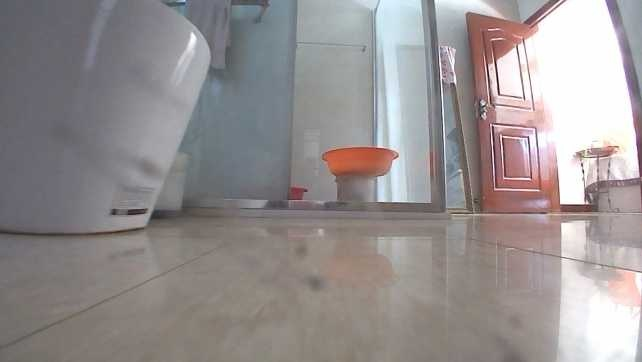door_anno: (462, 10, 559, 216)
toilet: (0, 0, 213, 237)
